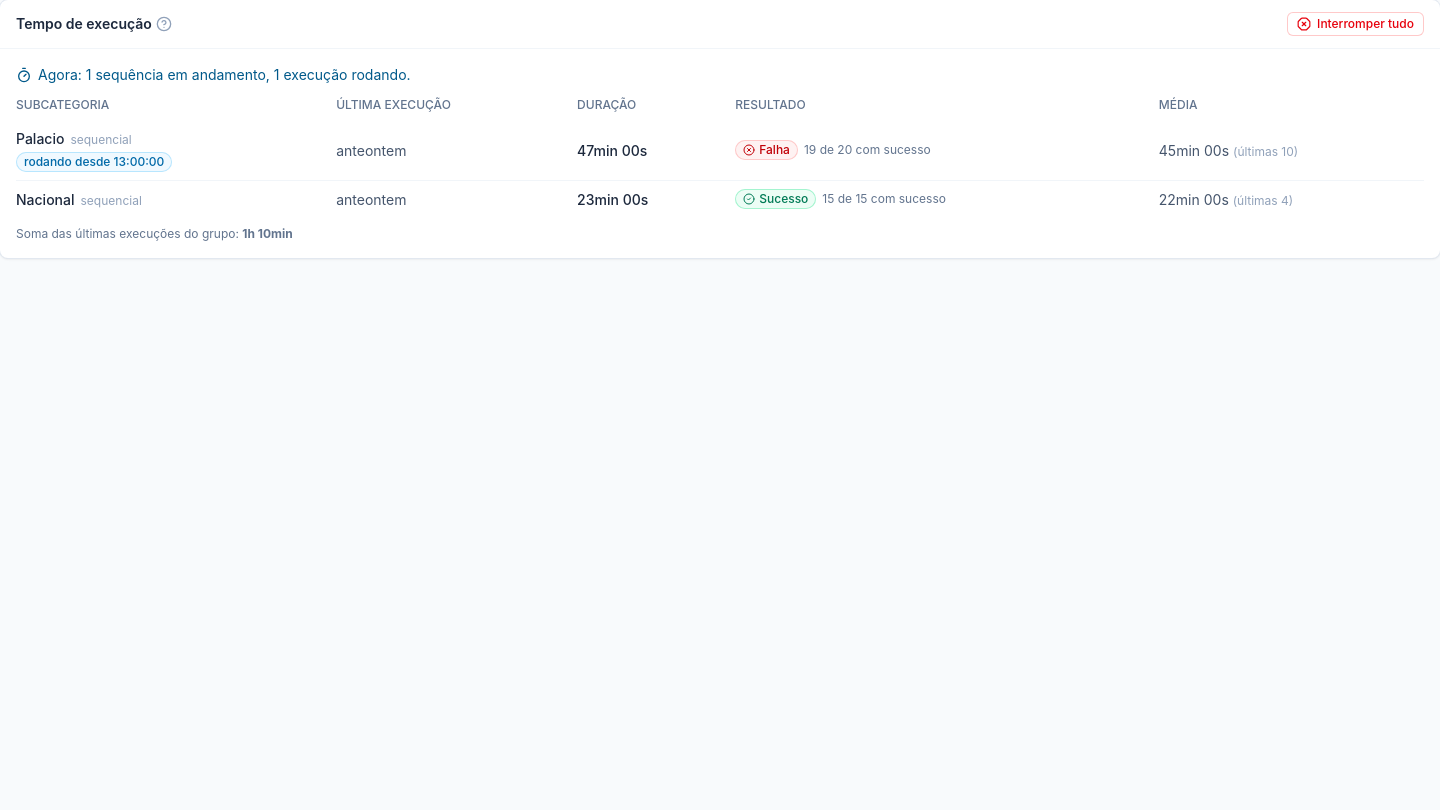
Test case: ExecutionTimesCard › shows how long each subcategory took and interrupts everything
Expected: the row with test id "execution-times-1" shows "Palacio", x1=16 y1=130 x2=64 y2=147
Expected: the row with test id "execution-times-1" shows "47min 00s", x1=577 y1=142 x2=647 y2=158
Click the button "Interromper tudo".
click(1356, 24)  # box x1=1287 y1=12 x2=1424 y2=36
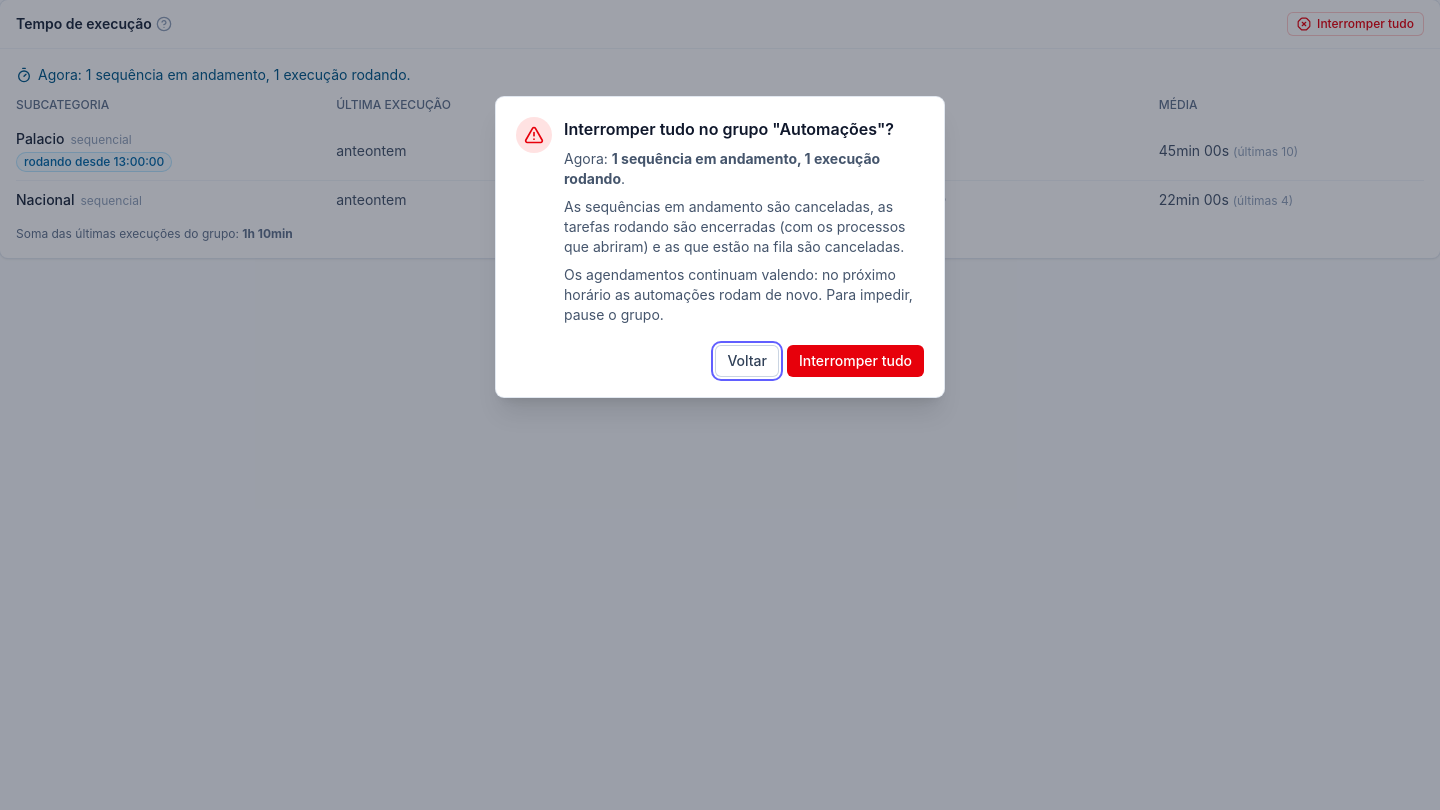
Click the button "Interromper tudo".
click(856, 361)  # box x1=787 y1=345 x2=924 y2=377
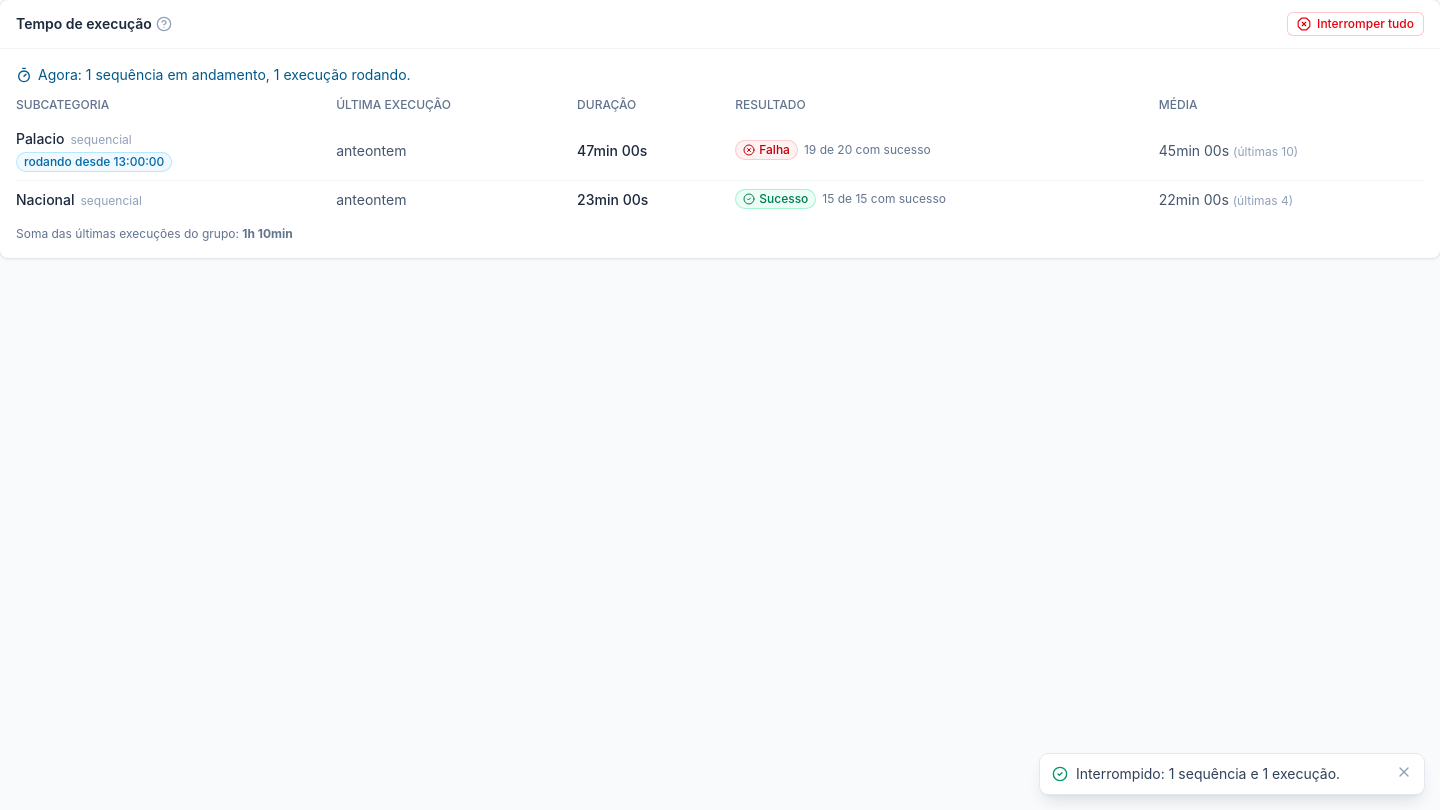
Result: the text "Interrompido: 1 sequência e 1 execução." is shown at x1=1076 y1=765 x2=1340 y2=782
